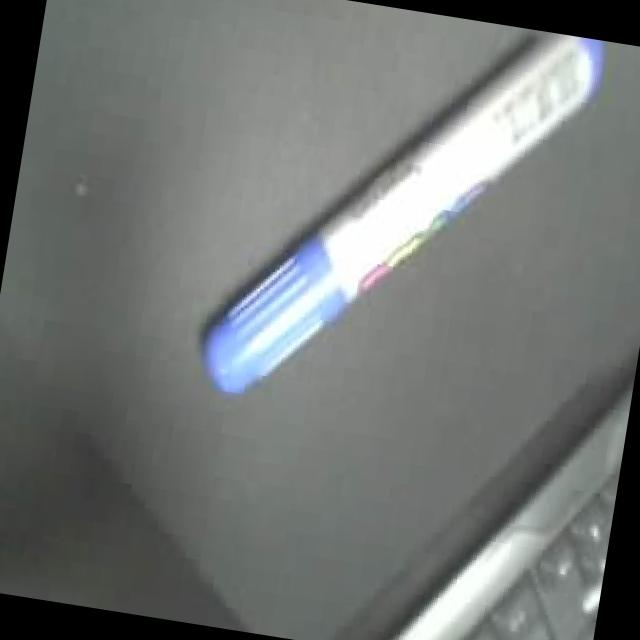board-marker: (192, 39, 613, 407)
